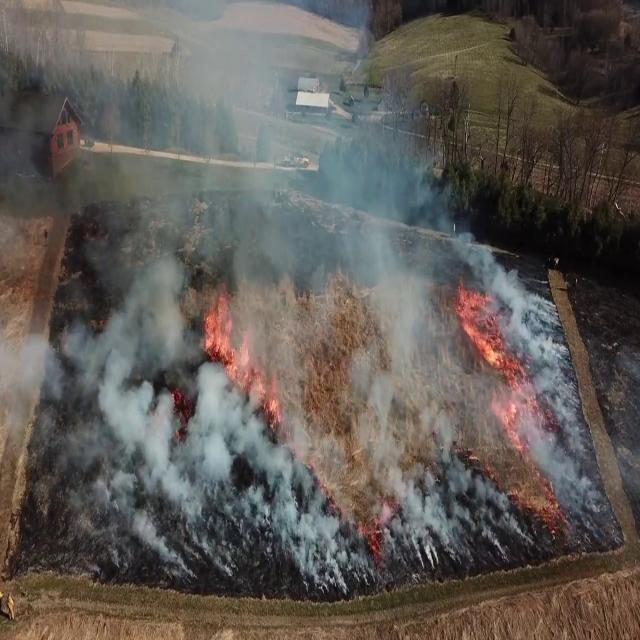Fire: (450, 282, 544, 425), (198, 273, 278, 416)
Smoke: (1, 3, 509, 586)
